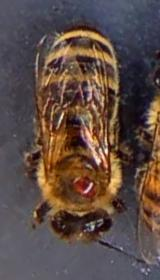varroa_mite: (68, 166, 104, 204)
